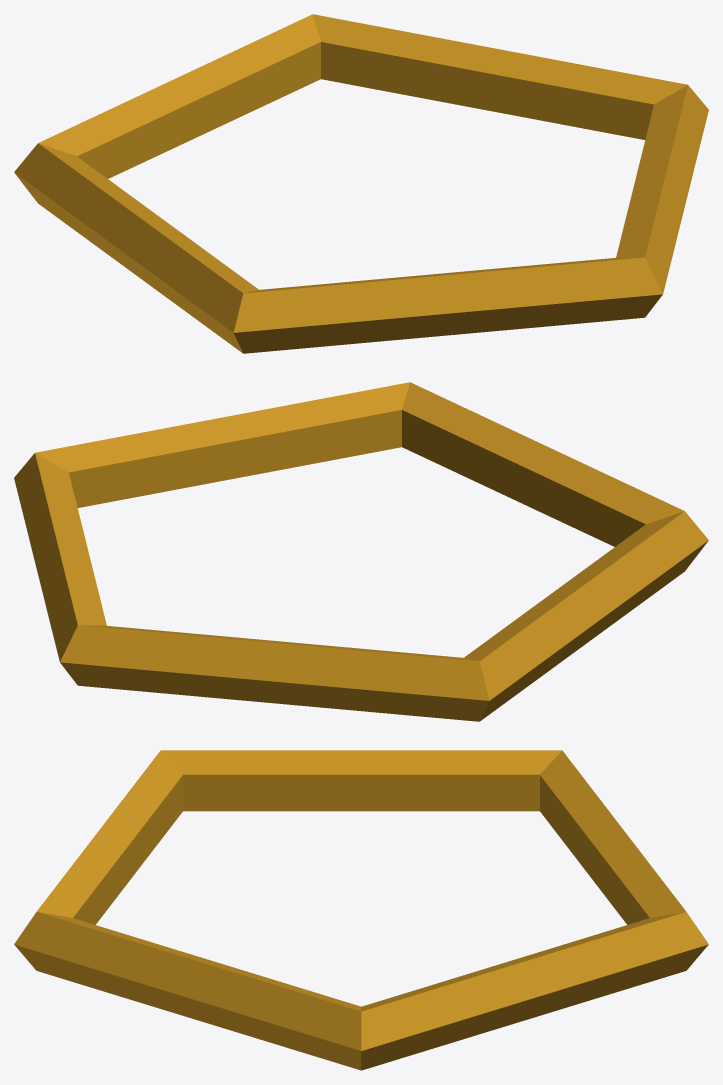
File: Brass_Pentagon.fbx
3 views of the same model, one above another, from view 1: azimuth 30°, elevation 25°; view 2: azimuth 150°, elevation 25°; view 3: azimuth 270°, elevation 25° (orthographic). The views are drawn at different scales.
Parts seen in each view (by area): view 1: Brass Pentagon; view 2: Brass Pentagon; view 3: Brass Pentagon.
Part boxes in pixels (x1,y1,x2,y2): Brass Pentagon: [14, 14, 708, 353]; Brass Pentagon: [14, 382, 708, 721]; Brass Pentagon: [14, 750, 708, 1070].
Bounding box in the file's own units: 289 × 28.53 × 304.
